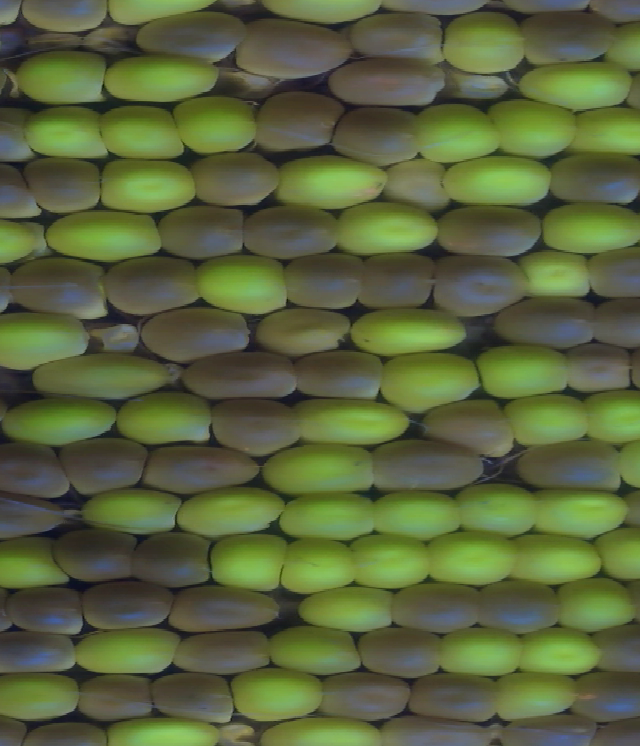fluorescent: (382, 352, 482, 412), (279, 156, 387, 211), (491, 96, 579, 163), (33, 357, 170, 400), (5, 397, 116, 449), (196, 253, 292, 313), (43, 209, 165, 256), (177, 486, 284, 539), (333, 203, 441, 255), (104, 53, 219, 100), (348, 309, 470, 353), (440, 13, 524, 75), (478, 344, 570, 400), (517, 65, 634, 109), (0, 310, 90, 367), (413, 104, 499, 163), (302, 398, 405, 447), (116, 393, 214, 444), (104, 102, 190, 160), (280, 490, 374, 543), (175, 96, 260, 154), (270, 449, 376, 495), (101, 159, 196, 210), (533, 486, 628, 537), (442, 158, 552, 202), (82, 489, 183, 536), (231, 668, 318, 722), (23, 106, 108, 161), (430, 531, 515, 586), (458, 481, 535, 540), (509, 394, 593, 448), (515, 531, 602, 582), (18, 50, 109, 98), (209, 534, 283, 592), (374, 488, 458, 539), (78, 630, 180, 672), (0, 672, 84, 722), (270, 628, 363, 673), (497, 668, 577, 720), (520, 627, 601, 678), (354, 532, 426, 589), (300, 587, 395, 630), (437, 627, 522, 673), (561, 580, 636, 631), (545, 205, 640, 245), (0, 534, 69, 589), (282, 542, 354, 592), (522, 250, 591, 300), (575, 107, 640, 158), (110, 720, 237, 746), (259, 719, 380, 746), (585, 390, 640, 444), (601, 527, 640, 581), (607, 20, 640, 70), (0, 217, 31, 263)
nonfluorescent: (235, 19, 347, 79), (333, 53, 447, 110), (436, 201, 542, 258), (138, 306, 254, 358), (14, 256, 110, 318), (432, 255, 525, 319), (181, 350, 300, 398), (256, 90, 340, 156), (494, 296, 596, 350), (375, 439, 483, 490), (516, 12, 616, 67), (514, 441, 622, 491), (335, 105, 424, 165), (104, 257, 200, 312), (425, 397, 514, 456), (245, 203, 342, 257), (134, 13, 249, 58), (146, 445, 261, 490), (170, 586, 279, 633), (194, 151, 279, 210), (158, 202, 245, 259), (353, 13, 446, 66), (63, 437, 148, 494), (135, 530, 214, 590), (285, 250, 365, 309), (551, 152, 640, 204), (410, 671, 497, 724), (212, 398, 298, 451), (26, 154, 103, 212), (393, 582, 480, 632), (481, 579, 560, 634), (152, 671, 232, 725), (292, 350, 382, 398), (315, 670, 415, 713), (362, 251, 432, 312), (84, 580, 170, 629), (55, 529, 134, 582), (358, 623, 435, 677), (172, 630, 274, 670), (257, 307, 352, 349), (0, 440, 68, 497), (8, 586, 83, 637), (75, 672, 155, 717), (569, 343, 637, 395), (0, 488, 62, 543), (571, 672, 640, 720), (0, 632, 75, 671), (588, 245, 640, 300), (0, 162, 42, 218), (597, 622, 640, 673), (0, 107, 31, 161)
